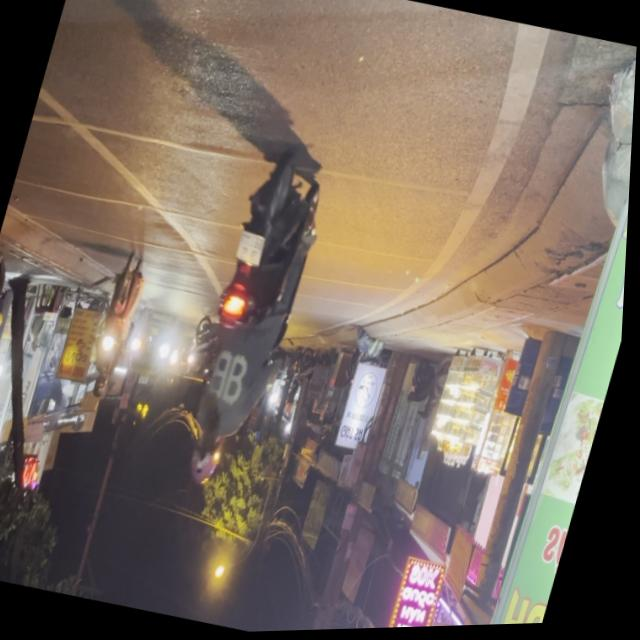helmet: (187, 432, 228, 490)
licenseplate: (160, 145, 343, 503)
nohelmet: (235, 233, 268, 269)
